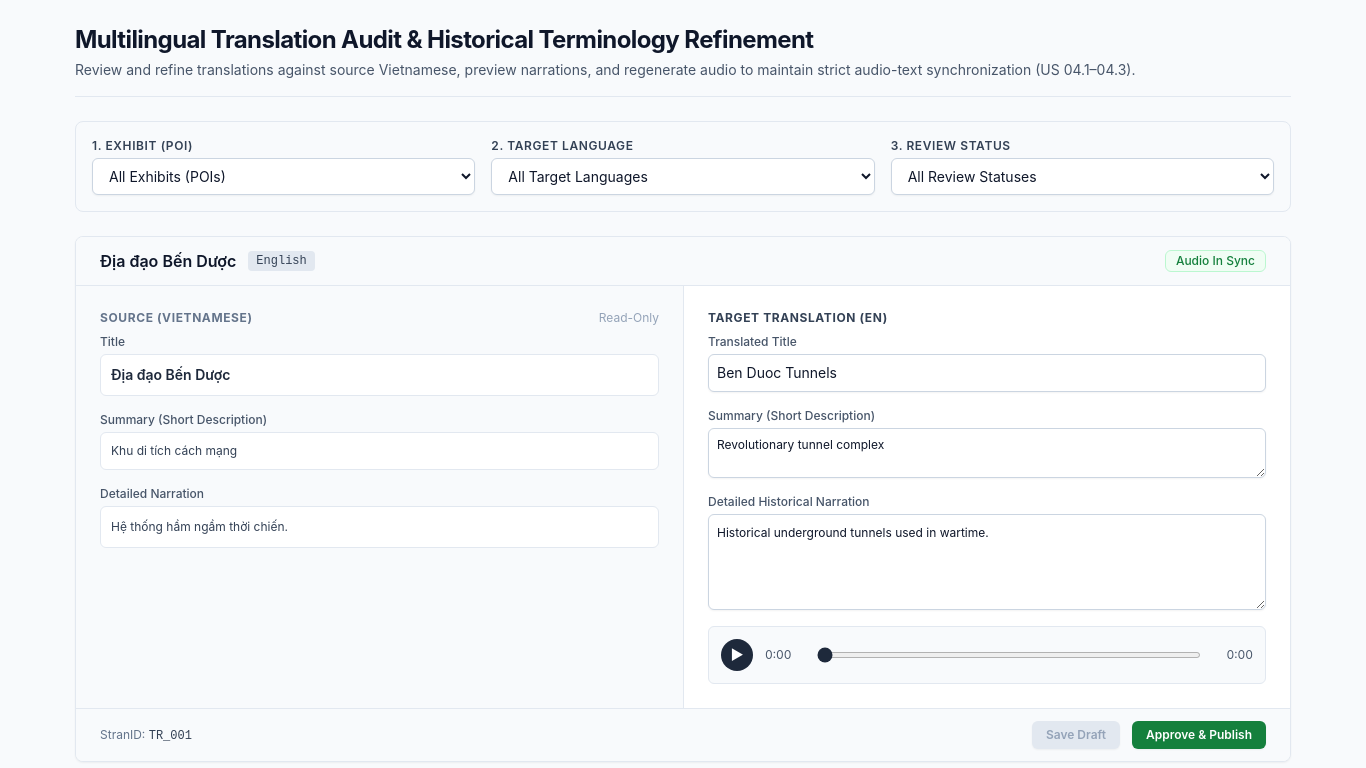
Test: TranslationAuditView (US 04.1 Multilingual Translation Audit & US 04.3 Publication) › updates draft state and displays unsaved edits indicator when editing target fields
Replace the text in the field with test id "target-title-input-TR_001" with "Ben Duoc Historical Relic Tunnel" at (987, 373), box 708,354 -> 1266,392
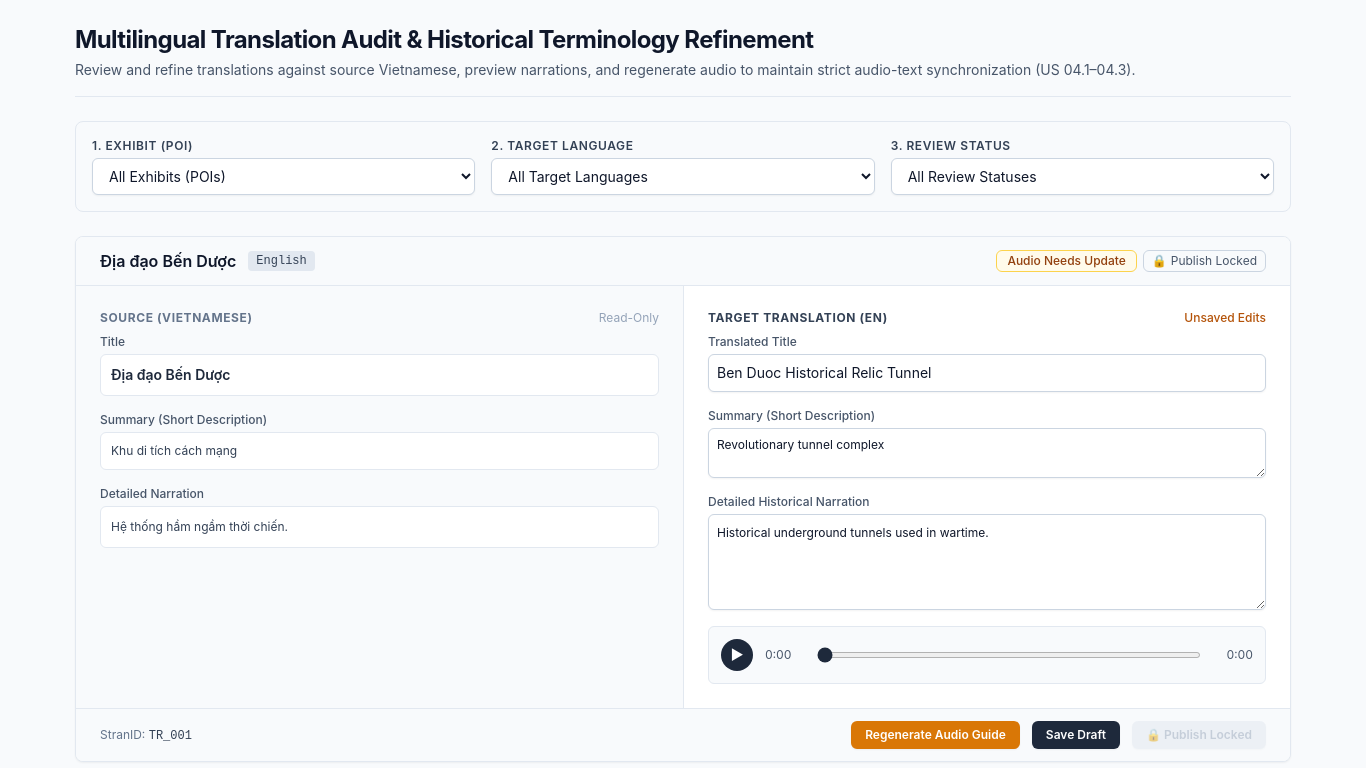
expect the text "Unsaved Edits" is shown: met, box 1184,310 -> 1266,326
expect the button with test id "save-btn-TR_001" is enabled: met, box 1032,721 -> 1120,749
